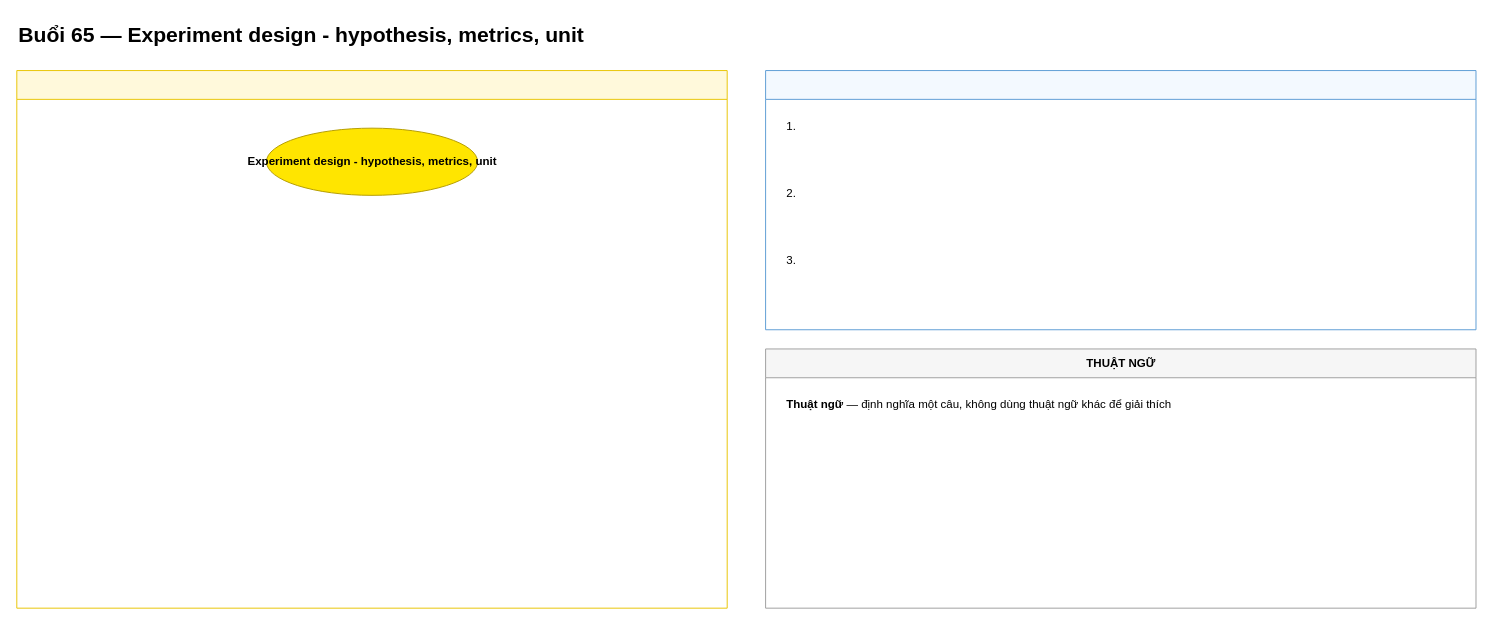
Some shapes in this 1493 by 625 pixel diagram are drawn without their labels. Each missing label, with the box of its shape:
KEY TAKEAWAY — ba điều phải nhớ: (765, 70, 1476, 330)
MINDMAP: (16, 70, 727, 608)
